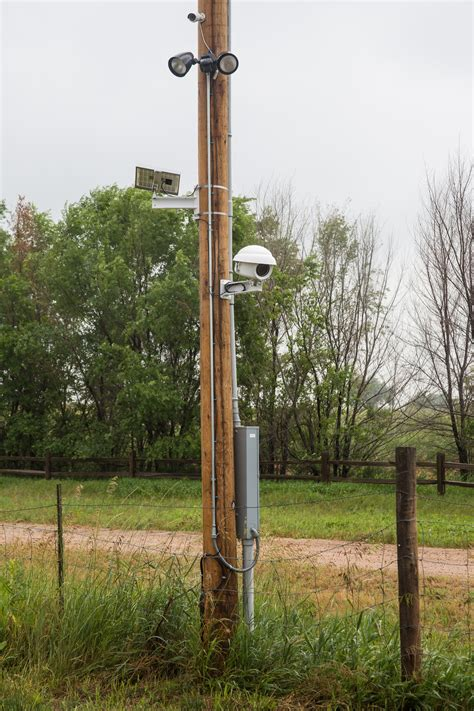w: (142, 1, 296, 663)
